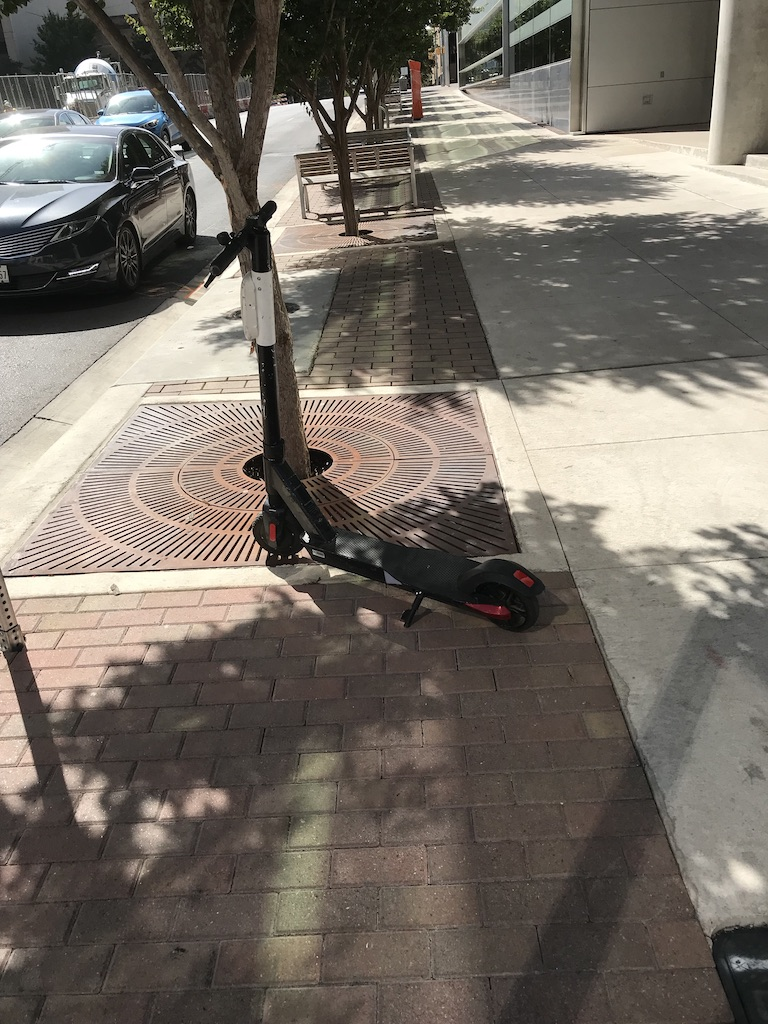scooter: (204, 202, 544, 628)
